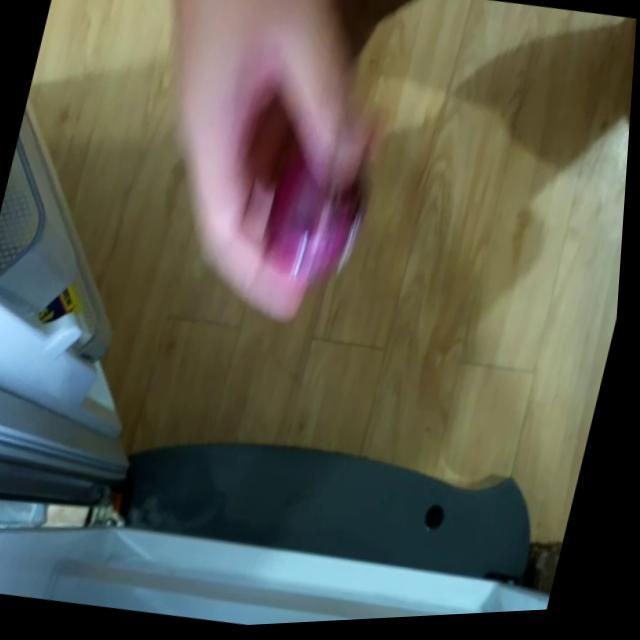onion: (262, 158, 382, 283)
